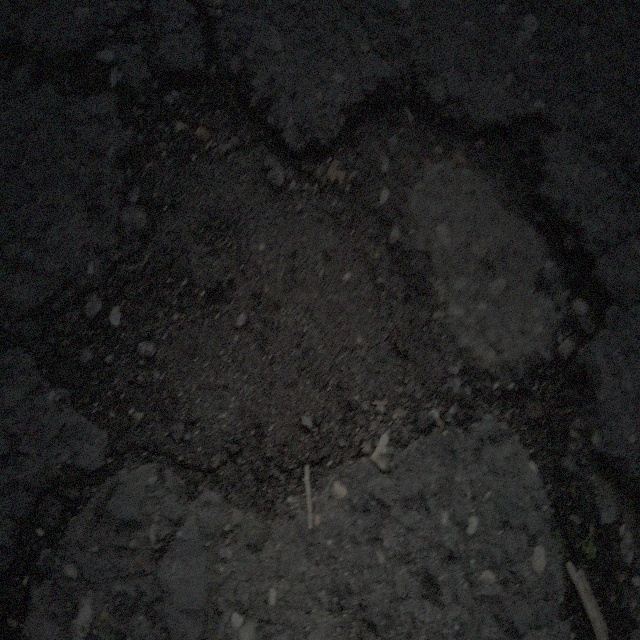pothole: (33, 44, 612, 514)
